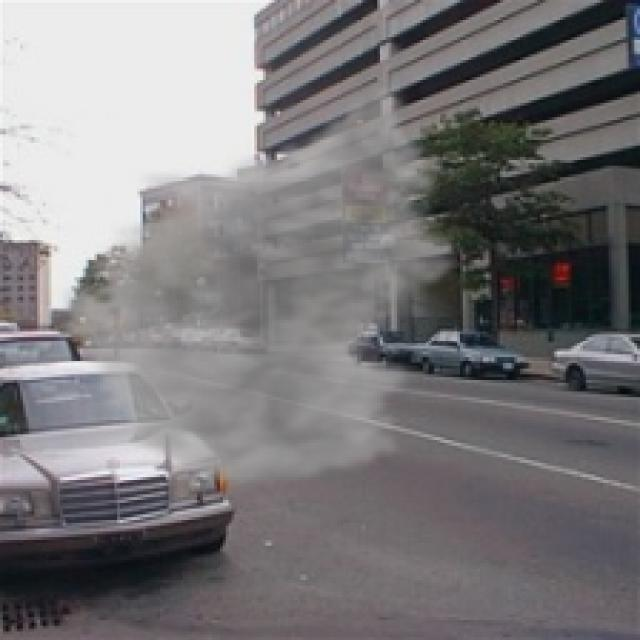Smoke: (42, 80, 468, 492)
